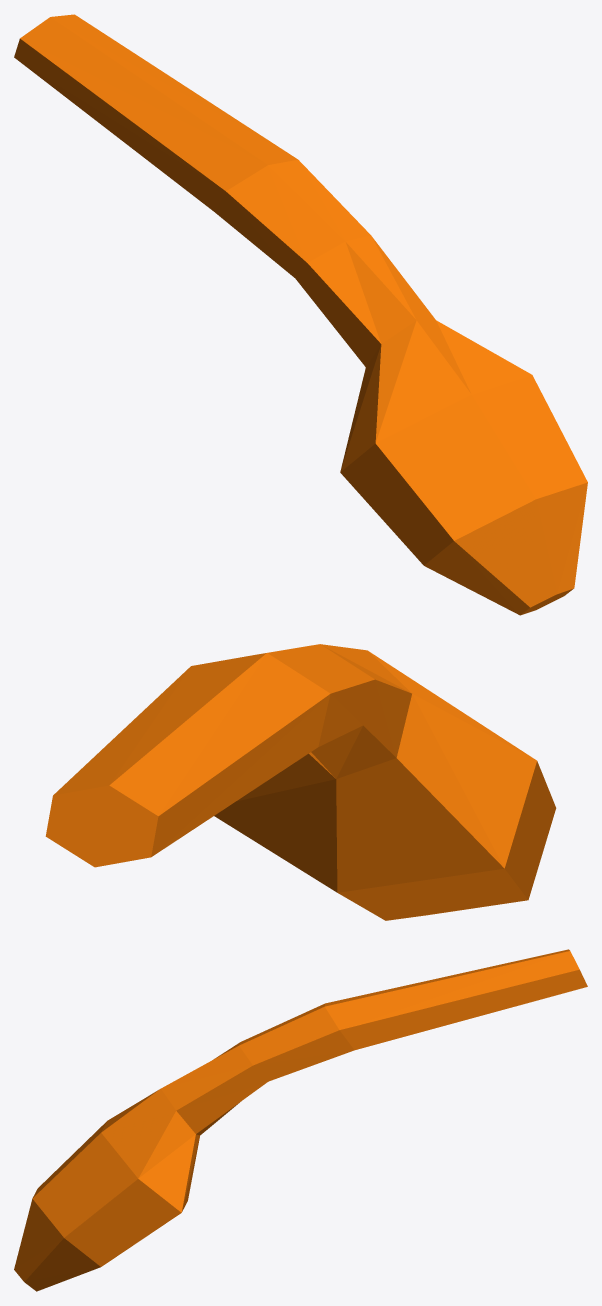
The model's file is character_scarecrowStraw.obj.
3 renders of one model, top to bottom at view 1: azimuth 30°, elevation 25°; view 2: azimuth 150°, elevation 25°; view 3: azimuth 270°, elevation 25°, orthographic. The views are drawn at different scales.
Visible parts, largest first — view 1: character_scarecrowStraw_Cylinder.064; view 2: character_scarecrowStraw_Cylinder.064; view 3: character_scarecrowStraw_Cylinder.064.
Part boxes in pixels (x1,y1,x2,y2): character_scarecrowStraw_Cylinder.064: [14, 14, 587, 615]; character_scarecrowStraw_Cylinder.064: [45, 644, 556, 920]; character_scarecrowStraw_Cylinder.064: [14, 949, 587, 1291].
Bounding box in the file's own units: 0.1435 × 0.214 × 0.39.
